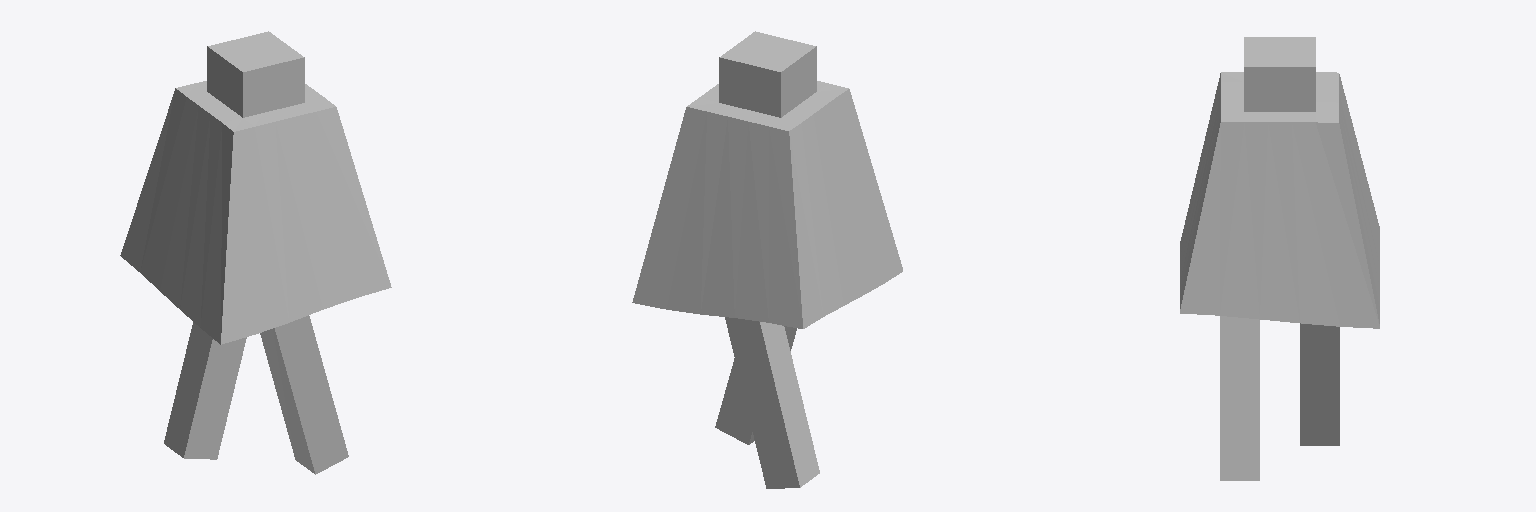
Rendered from essai_000019.obj.
The picture shows the model from 3 angles: view 1: azimuth 30°, elevation 25°; view 2: azimuth 150°, elevation 25°; view 3: azimuth 270°, elevation 25°; orthographic projection.
Visible parts, largest first — view 1: Cube; view 2: Cube; view 3: Cube.
Part boxes in pixels (x1,y1,x2,y2): Cube: (120,31,391,474); Cube: (632,31,902,488); Cube: (1180,37,1379,480).
Size of the model in its own units: 1.98 by 4.48 by 2.